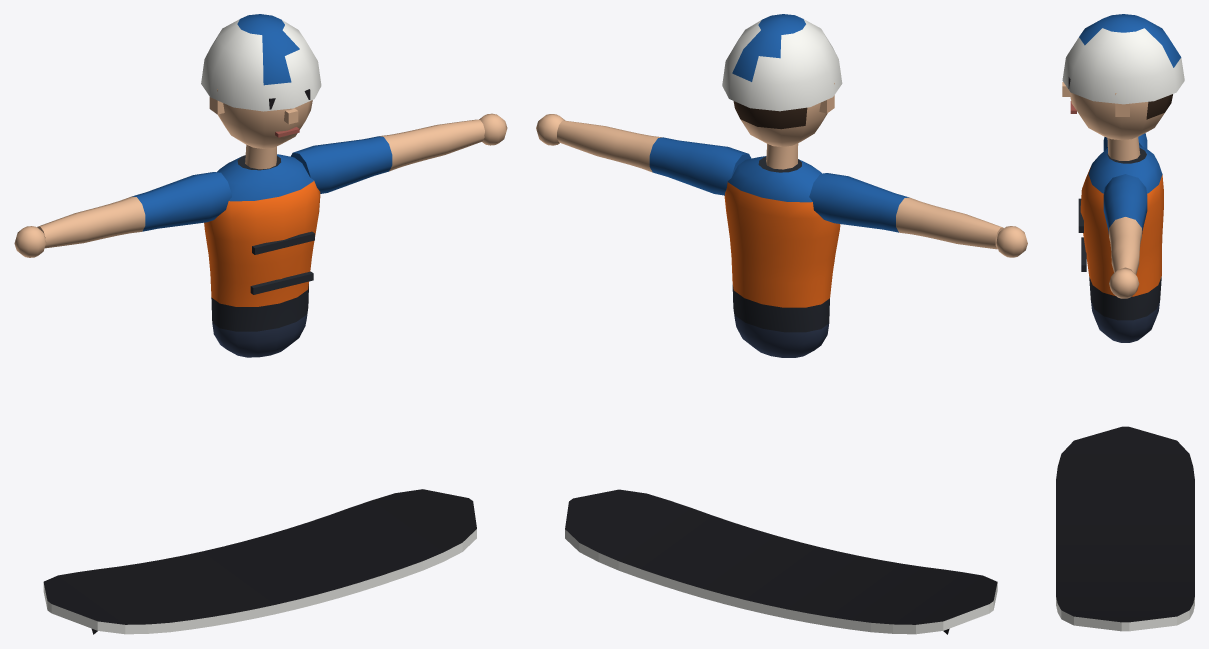
The model's file is player_upper.obj.
3 renders of one model, left to right at view 1: azimuth 30°, elevation 25°; view 2: azimuth 150°, elevation 25°; view 3: azimuth 270°, elevation 25°, orthographic. The views are drawn at different scales.
Parts seen in each view (by area): view 1: board, torso, helmet, arm.R, arm.L, head, hand.R; view 2: board, torso, helmet, arm.R, arm.L, head, hand.R, neck; view 3: board, torso, helmet, arm.L, head, hand.L, neck.
Part boxes in pixels (box(x1,y1,x2,y2)): board: box(43, 489, 476, 634); torso: box(204, 154, 320, 357); helmet: box(201, 14, 321, 111); arm.R: box(37, 172, 231, 248); arm.L: box(290, 119, 484, 193); head: box(209, 89, 312, 148); hand.R: box(14, 226, 46, 257); board: box(565, 489, 997, 634); torso: box(724, 156, 840, 357); helmet: box(722, 14, 842, 111); arm.R: box(809, 173, 1003, 249); arm.L: box(557, 120, 751, 195); head: box(733, 83, 834, 146); hand.R: box(996, 226, 1027, 257); neck: box(766, 143, 798, 169); board: box(1056, 426, 1194, 631); torso: box(1078, 146, 1163, 342); helmet: box(1062, 14, 1184, 104); arm.L: box(1103, 174, 1147, 274); head: box(1062, 77, 1172, 140); hand.L: box(1109, 268, 1139, 298); neck: box(1107, 137, 1140, 160).
Size of the model in its own units: 1.62 by 1.79 by 0.42.
1 material, 1 textured.
